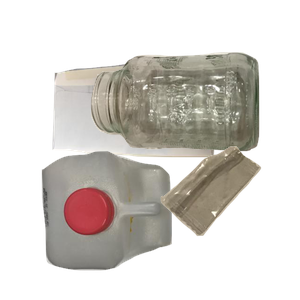glass: (88, 50, 300, 194)
paper: (50, 61, 257, 211)
plastic: (39, 149, 203, 300)
trash: (158, 144, 300, 300)
